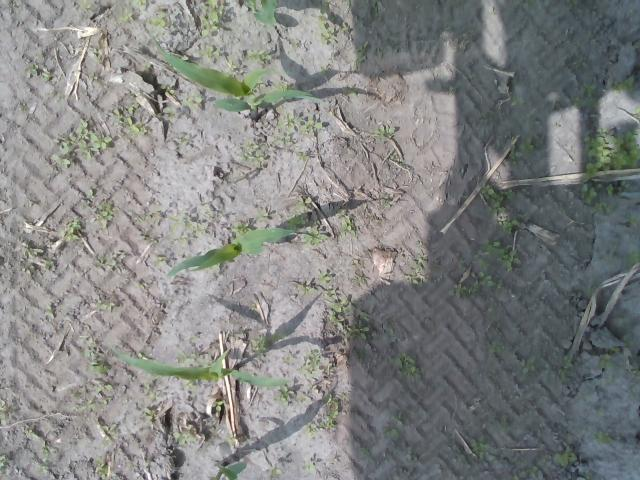Maize: (152, 35, 318, 123), (106, 346, 290, 388), (167, 224, 299, 279), (242, 0, 278, 30), (210, 460, 247, 480)
Weeds: (579, 123, 640, 227), (278, 350, 344, 435), (296, 271, 372, 340), (476, 185, 520, 269), (48, 118, 112, 170), (74, 336, 114, 414), (271, 110, 324, 161), (284, 193, 330, 246), (575, 76, 640, 110), (169, 212, 211, 254), (109, 102, 150, 138), (316, 1, 351, 43), (399, 250, 432, 288), (18, 241, 54, 274), (234, 139, 270, 167), (198, 0, 224, 38), (90, 189, 114, 230), (456, 436, 493, 462), (507, 136, 540, 163), (393, 355, 424, 382), (474, 259, 501, 290), (33, 446, 59, 478), (174, 350, 209, 368), (336, 208, 356, 238), (95, 248, 122, 270), (510, 463, 542, 480), (598, 348, 622, 370), (197, 44, 223, 64), (448, 278, 474, 298), (171, 428, 197, 447), (382, 416, 400, 443), (246, 47, 272, 65), (486, 339, 515, 355), (557, 354, 572, 384), (180, 88, 206, 105), (62, 220, 82, 242), (28, 63, 51, 82), (552, 449, 576, 466), (252, 334, 272, 354), (142, 382, 160, 404), (354, 41, 371, 64), (592, 430, 616, 445), (93, 456, 108, 480), (360, 446, 378, 464), (401, 447, 420, 464), (116, 10, 136, 26), (374, 126, 396, 140), (100, 423, 119, 439), (230, 220, 250, 234), (141, 406, 158, 422), (146, 16, 168, 28), (254, 208, 272, 222), (94, 300, 115, 312), (575, 56, 590, 72), (627, 250, 640, 267), (524, 356, 536, 374), (210, 398, 224, 413), (274, 78, 292, 88), (509, 97, 526, 107), (226, 63, 238, 77), (0, 454, 7, 477), (497, 420, 510, 432), (92, 48, 104, 61), (23, 426, 36, 437), (44, 304, 54, 318), (78, 0, 90, 11), (350, 258, 362, 269), (269, 466, 280, 478), (630, 108, 640, 121), (226, 435, 237, 446), (164, 86, 176, 96), (132, 0, 148, 6), (162, 106, 174, 114), (306, 464, 316, 473), (88, 73, 98, 82)
